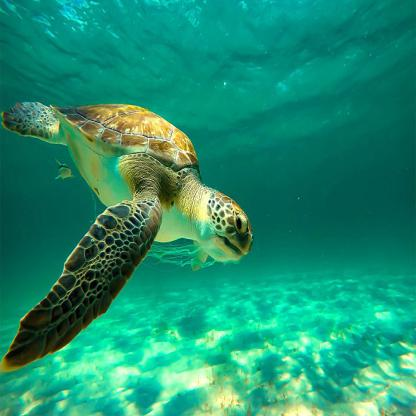turtle: (200, 184, 257, 269)
